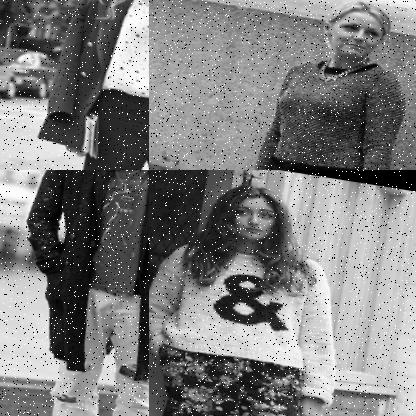jacket: (3, 170, 149, 389), (33, 0, 149, 170)
jean: (33, 279, 149, 416)
pants: (149, 342, 310, 416), (55, 78, 149, 170)
polar: (149, 229, 353, 406), (245, 43, 412, 170)
